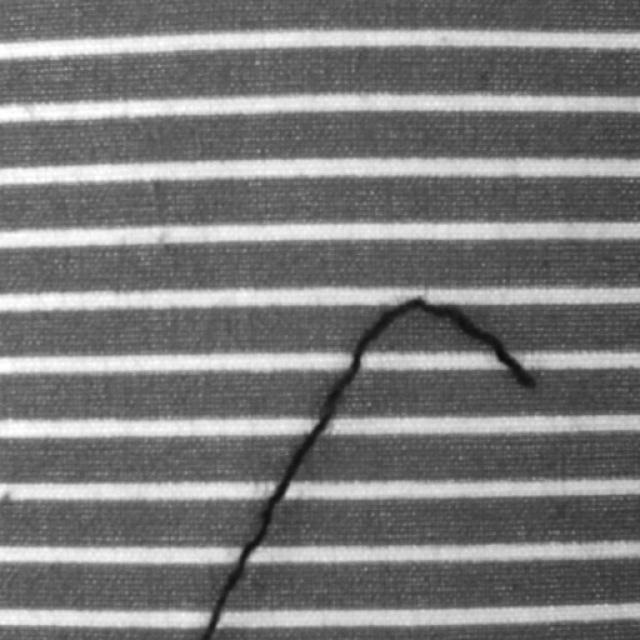Foreign-Body-Defect: (199, 298, 534, 639)
